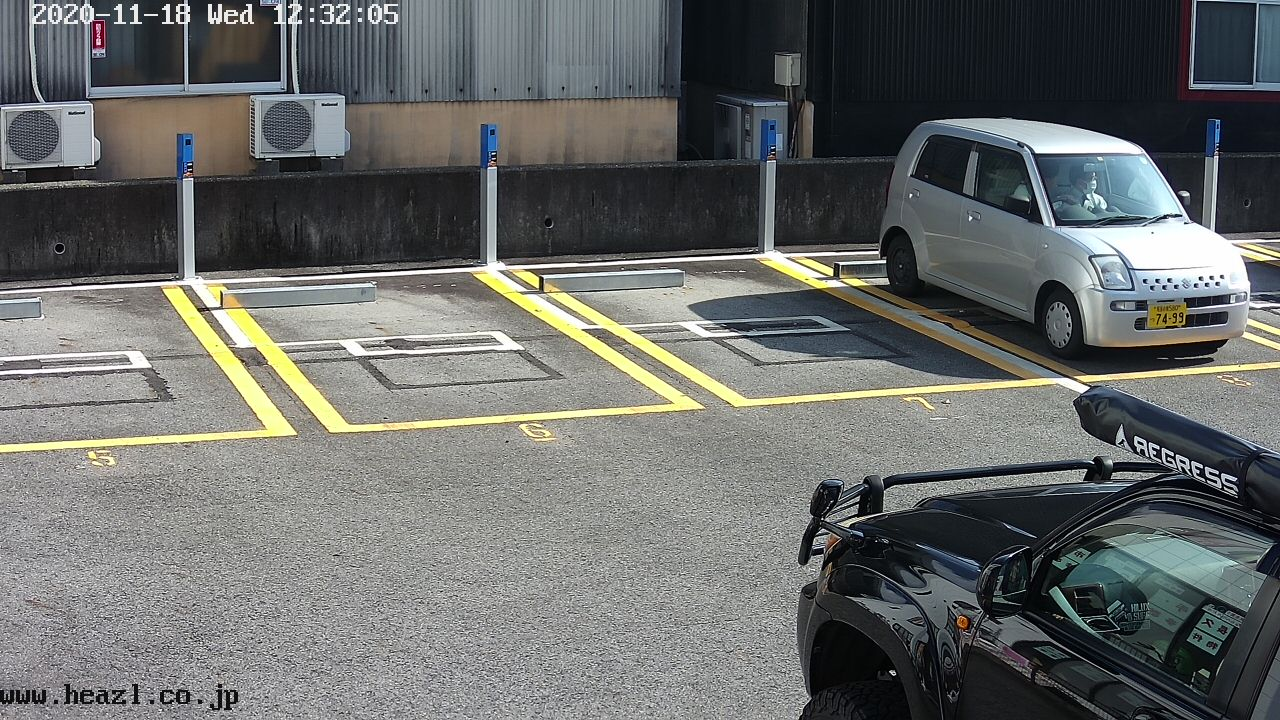number_plate: (1144, 300, 1188, 328)
